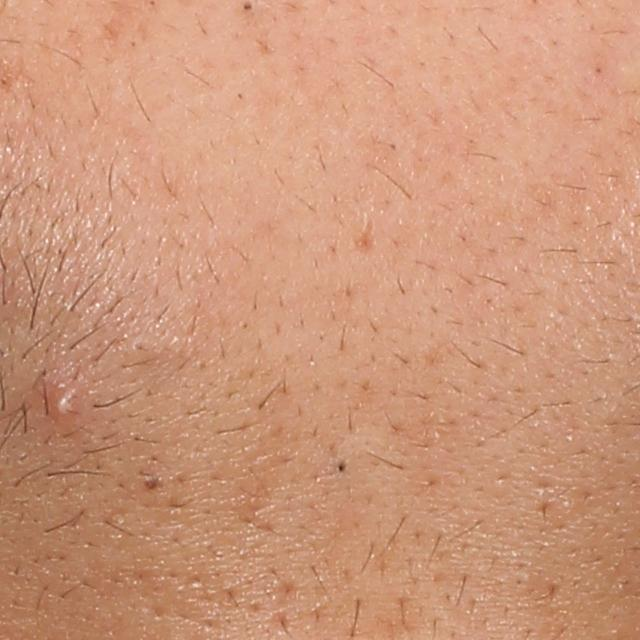atrophic_scar: (353, 216, 375, 256)
pustule: (54, 384, 78, 422)
